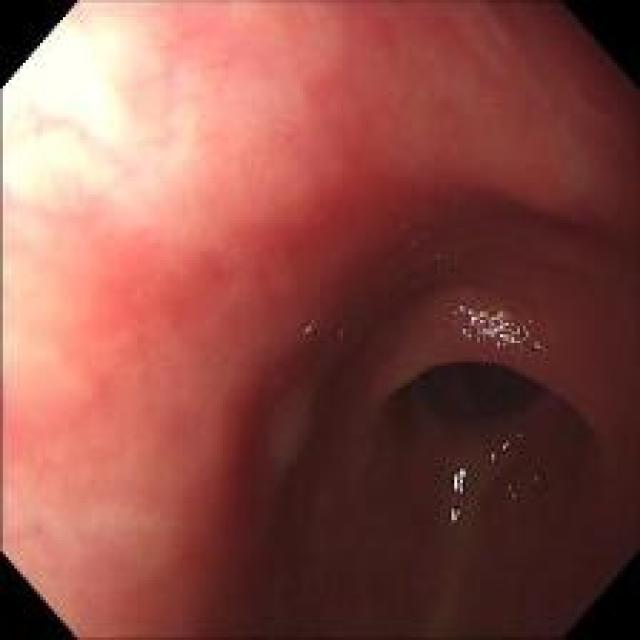color misalignment: (448, 296, 548, 361), (300, 318, 318, 339)
contrast: (274, 259, 636, 638)
saturation: (0, 1, 182, 226)
specularity: (444, 466, 468, 494), (445, 504, 464, 531), (509, 489, 519, 502), (500, 438, 511, 449), (488, 449, 496, 462)
